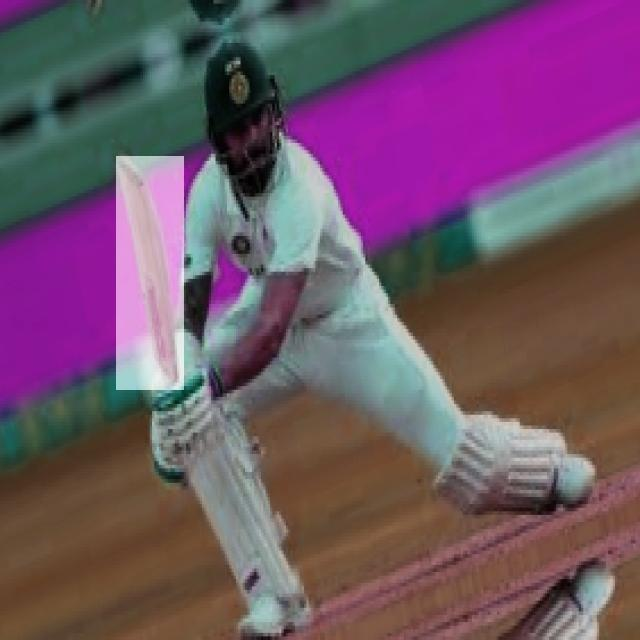bat: (114, 156, 183, 388)
toe: (116, 156, 147, 190)
